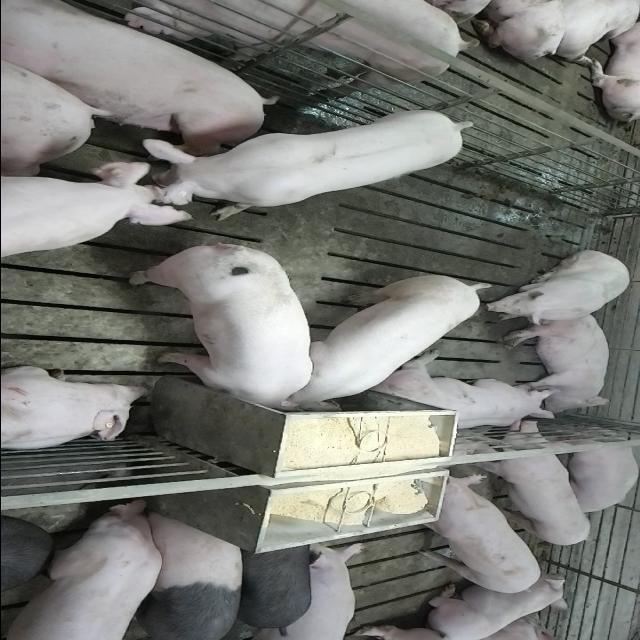Feeding: (122, 248, 312, 420), (283, 272, 497, 409)
Lateral_lying: (0, 3, 275, 152), (502, 310, 612, 415)
Sitting: (482, 250, 634, 326)
Standing: (137, 107, 473, 221), (111, 0, 467, 99), (0, 499, 165, 638), (0, 155, 190, 258), (409, 473, 542, 597), (128, 510, 244, 638), (478, 421, 594, 548), (226, 532, 316, 636)
Sternal_lying: (373, 354, 560, 432), (0, 365, 150, 453), (418, 576, 568, 638), (553, 434, 637, 514)
